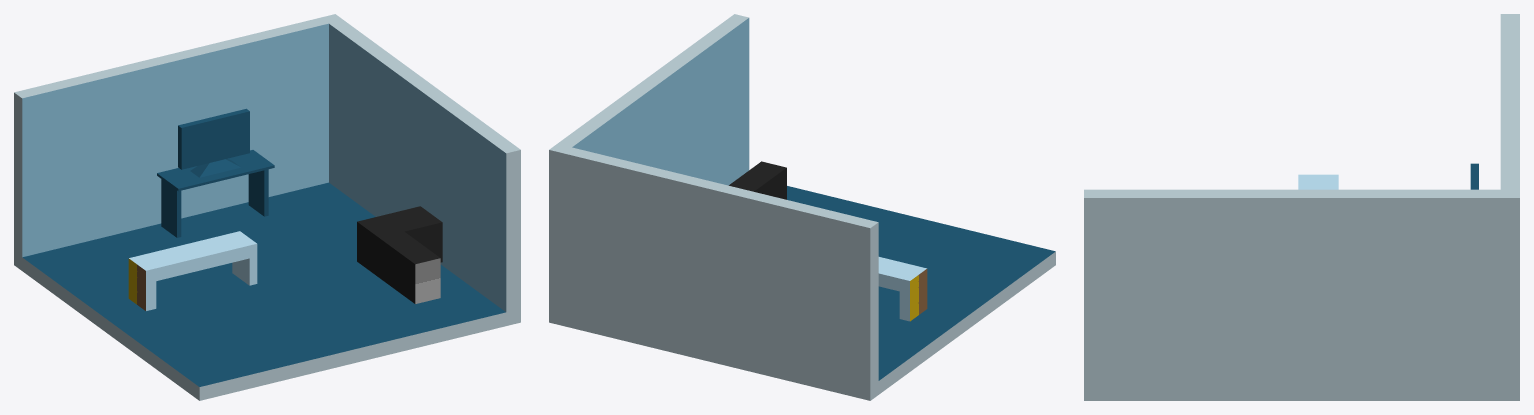
Rendered from computer room3.glb.
The picture shows the model from 3 angles, left to right: view 1: azimuth 30°, elevation 25°; view 2: azimuth 150°, elevation 25°; view 3: azimuth 270°, elevation 25°; orthographic projection. The views are drawn at different scales.
Parts seen in each view (by area): view 1: Cube; view 2: Cube; view 3: Cube.
Part boxes in pixels (x1,y1,x2,y2): Cube: [14, 14, 520, 400]; Cube: [549, 14, 1055, 400]; Cube: [1084, 14, 1519, 400].
Size of the model in its own units: 5.96 by 3.06 by 5.96.
1 material, 1 textured.
